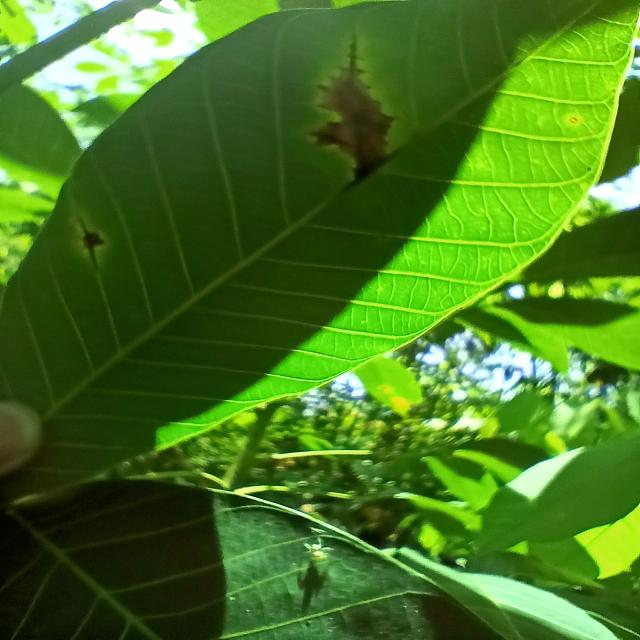Colletotrichum: (571, 117, 578, 123)
Corynespora: (343, 151, 402, 190), (75, 215, 104, 267), (343, 36, 364, 76)
Leaf-Blight: (315, 69, 391, 162)
